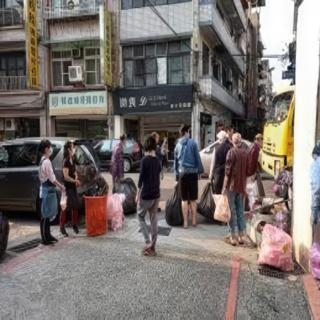Garbage: (256, 222, 294, 270), (164, 181, 184, 230), (112, 176, 136, 216), (196, 181, 215, 220), (212, 194, 231, 222)
